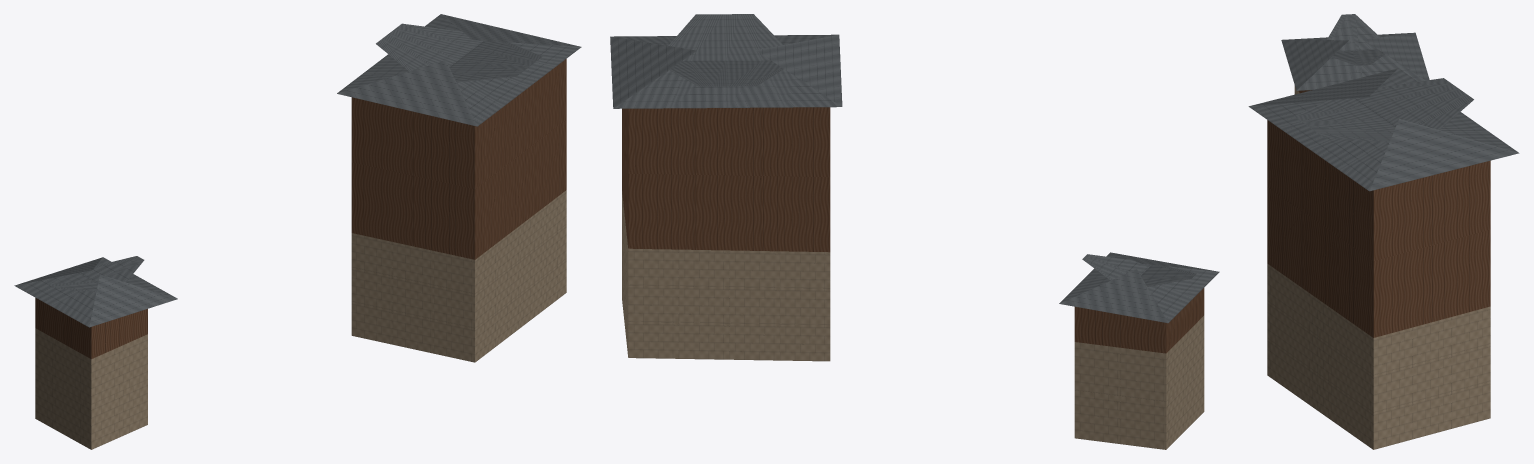
The model's file is bld_c-10_41_517.gltf.
3 views of the same model, side by side, from view 1: azimuth 30°, elevation 25°; view 2: azimuth 150°, elevation 25°; view 3: azimuth 270°, elevation 25° (orthographic). The views are drawn at different scales.
Visible parts, largest first — view 1: bld_c-10_41_517; view 2: bld_c-10_41_517; view 3: bld_c-10_41_517.
Boxes of the visible parts, bbox=[...] form: bld_c-10_41_517: bbox=[14, 14, 581, 449]; bld_c-10_41_517: bbox=[610, 14, 1219, 449]; bld_c-10_41_517: bbox=[1248, 14, 1519, 449].
Bounding box in the file's own units: 28.38 × 13.4 × 11.21.
Materials: 3 (3 with a texture image).
